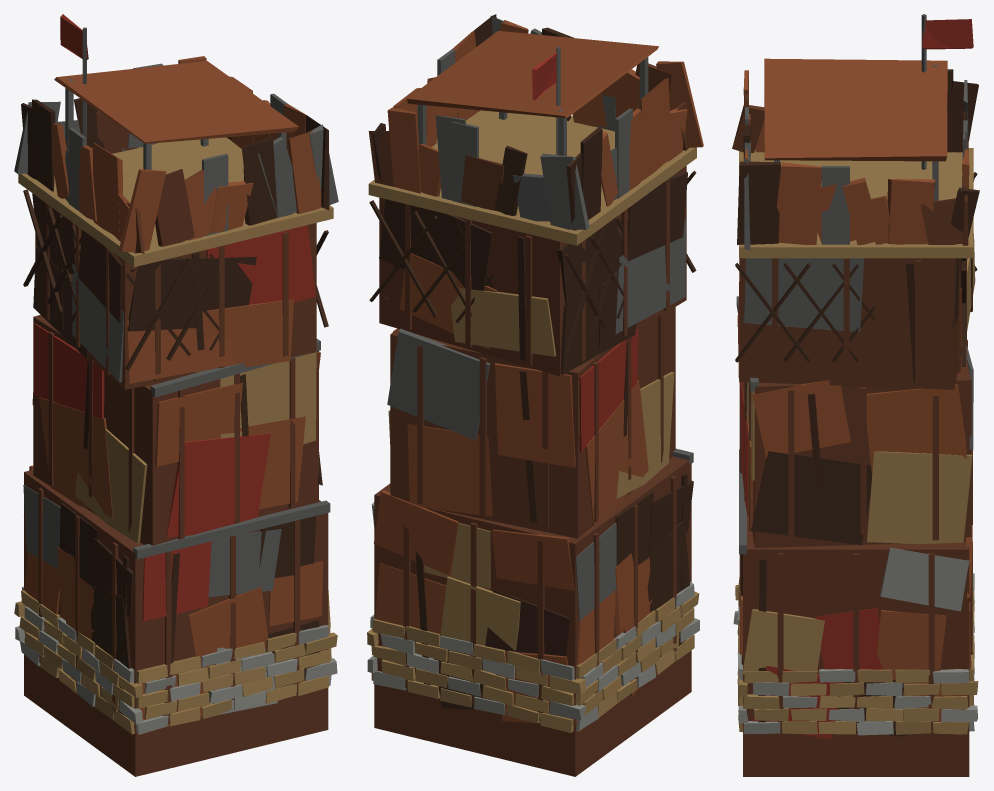
The model's file is fort_scrap_tower.glb.
3 renders of one model, left to right at view 1: azimuth 30°, elevation 25°; view 2: azimuth 150°, elevation 25°; view 3: azimuth 270°, elevation 25°, orthographic. The views are drawn at different scales.
Visible parts, largest first — view 1: fort_scrap_tower; view 2: fort_scrap_tower; view 3: fort_scrap_tower.
Boxes of the visible parts, box(x1,y1,x2,y2) form: fort_scrap_tower: box(14, 14, 338, 776); fort_scrap_tower: box(367, 14, 703, 776); fort_scrap_tower: box(732, 14, 979, 776).
Size of the model in its own units: 6.35 by 18.7 by 6.13.
